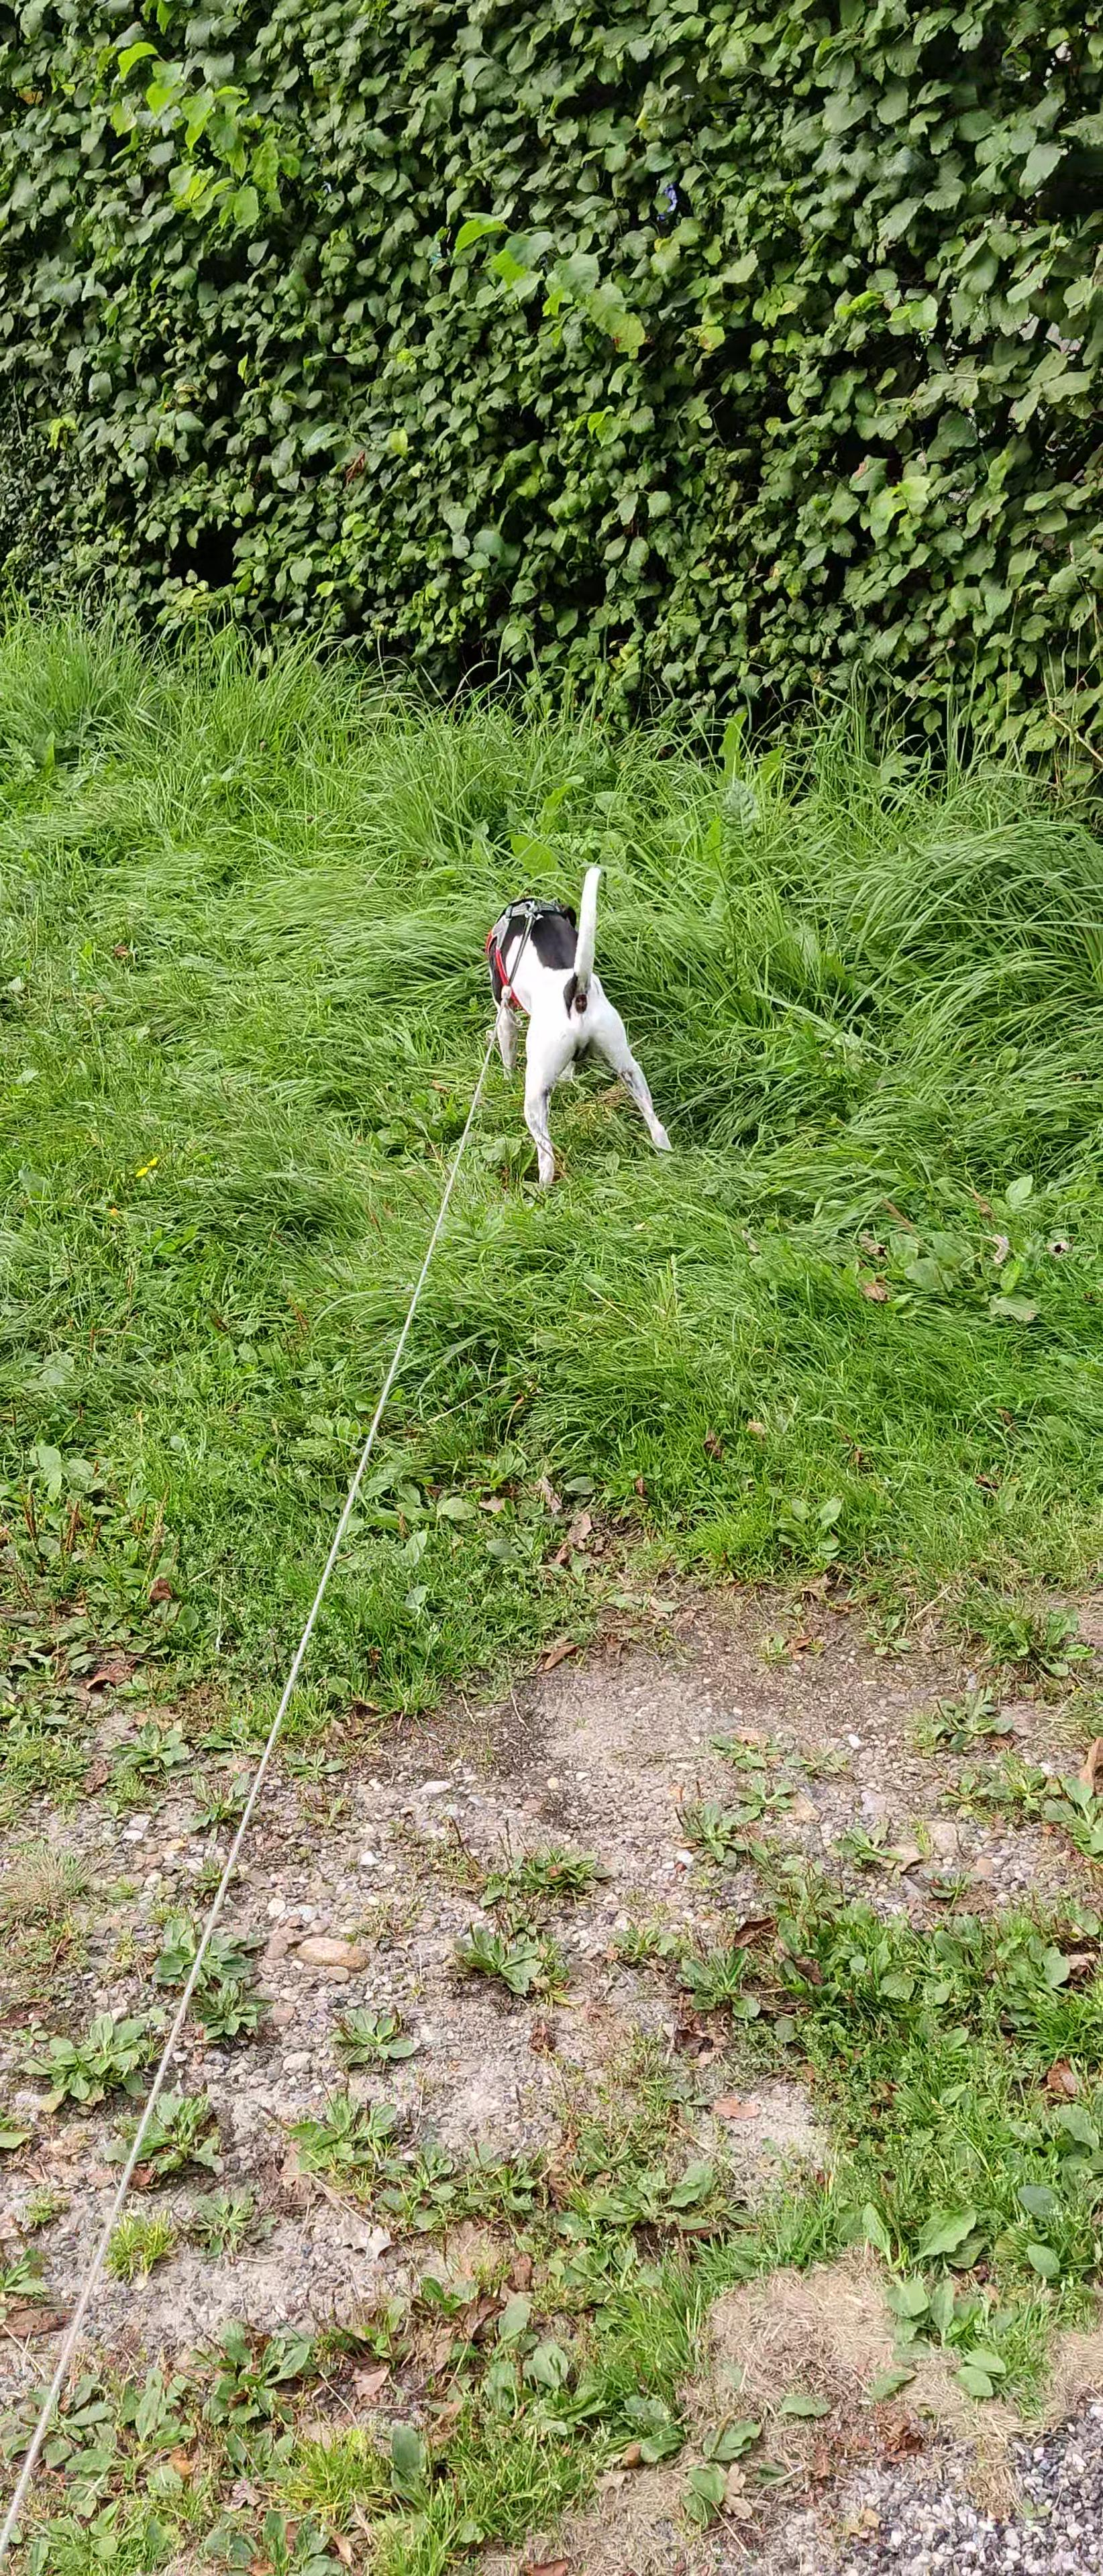Dog: (477, 862, 681, 1201)
